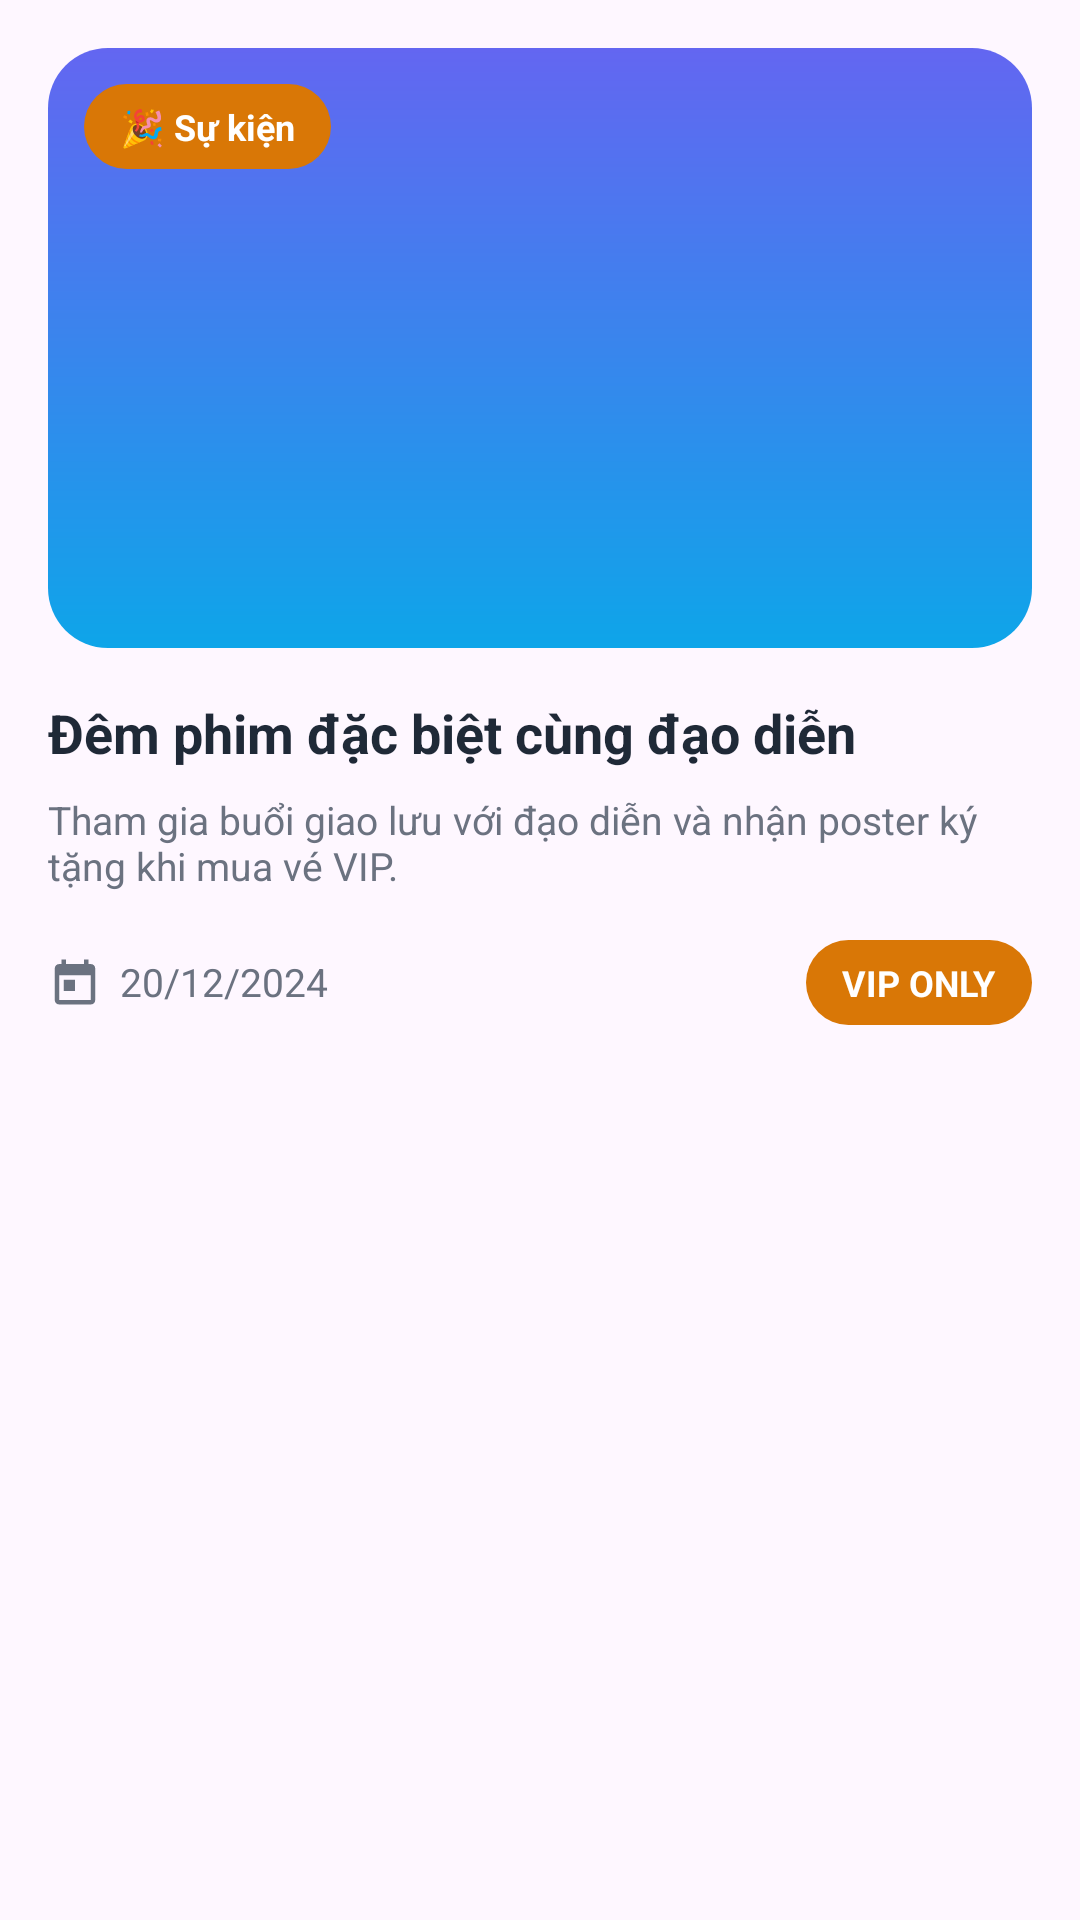

Icons on this 1080×1920 Android screen, each with its box as (x1, y1, x2, y2):
calendar: (54, 959, 96, 1005)
